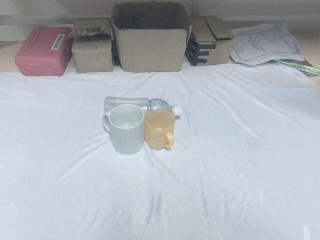bottle: (105, 97, 178, 116)
box: (110, 1, 192, 74), (14, 22, 75, 79), (184, 15, 234, 67), (71, 17, 114, 73)
cup: (104, 103, 146, 155), (142, 107, 176, 150)
